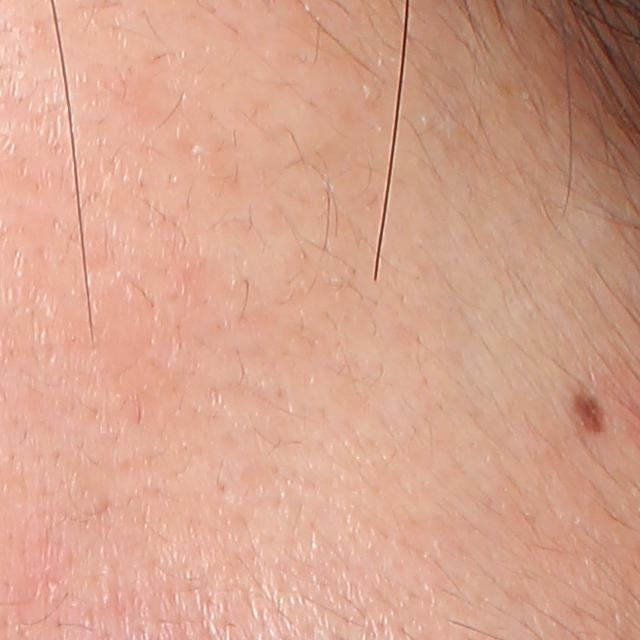comedo: (189, 139, 206, 158)
nevus: (571, 389, 615, 436)
